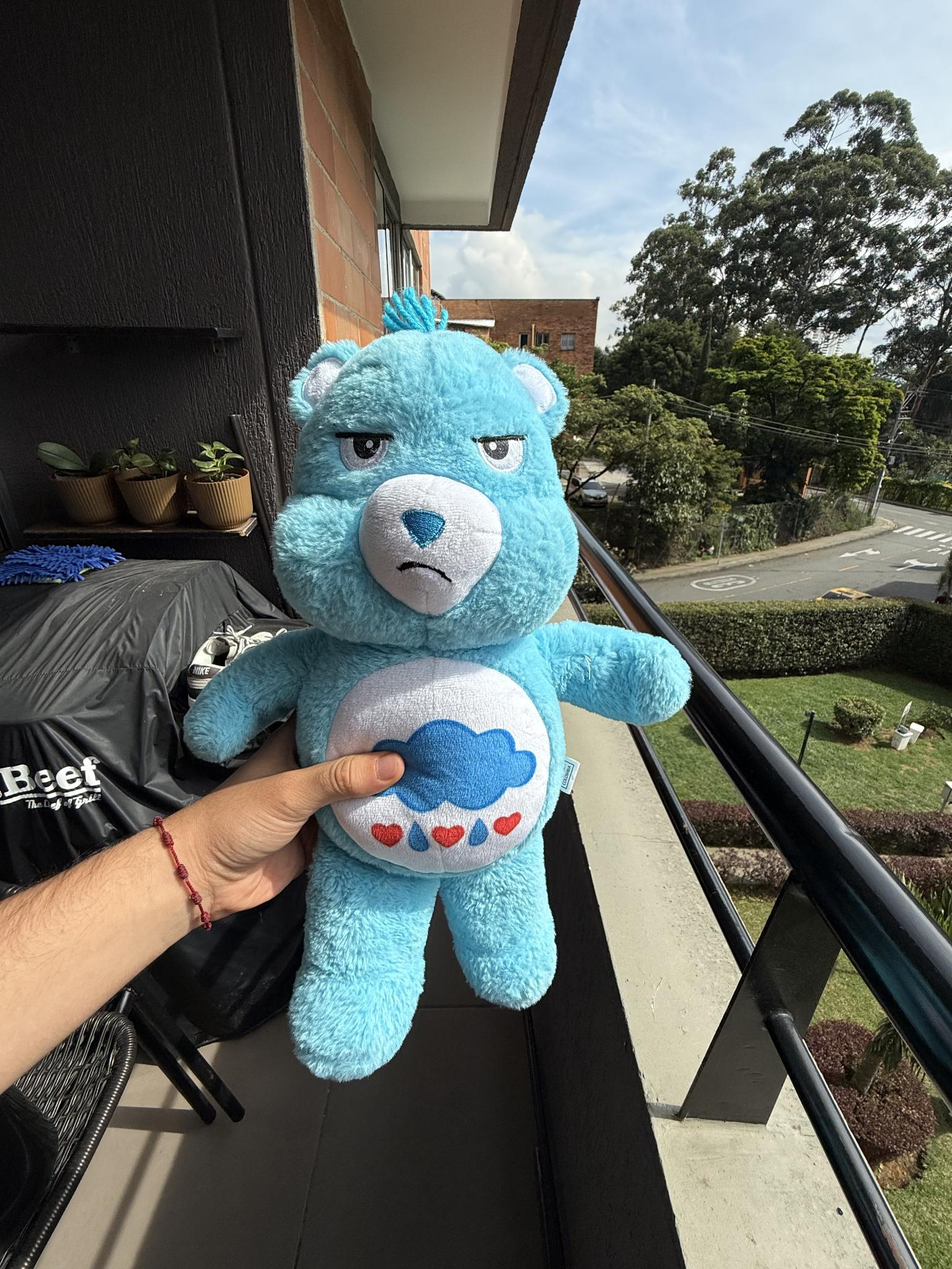peluche_Juan Jose: (264, 313, 581, 1070)
